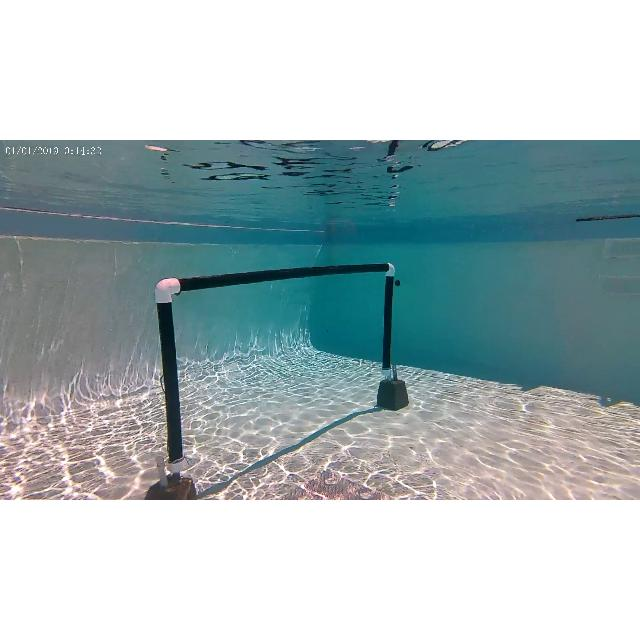prequal gate: (155, 263, 395, 473)
prequal gate leg l: (152, 274, 195, 478)
prequal gate leg r: (378, 256, 400, 384)
